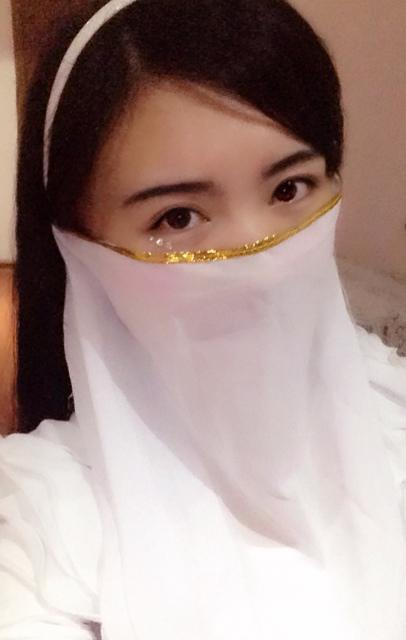OK: (108, 138, 352, 382)
